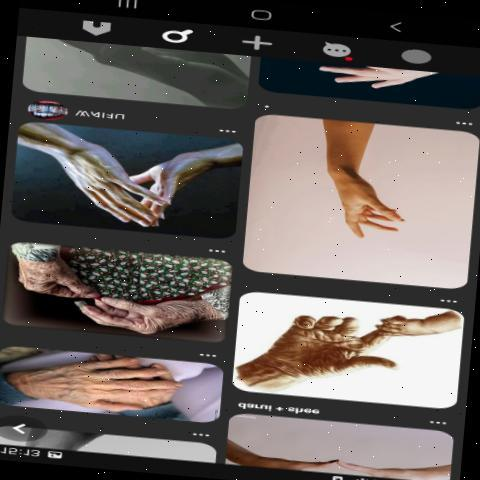Hands: (303, 124, 422, 264), (257, 294, 410, 393), (36, 137, 172, 223), (20, 355, 183, 424), (85, 278, 225, 333), (5, 254, 112, 312)
